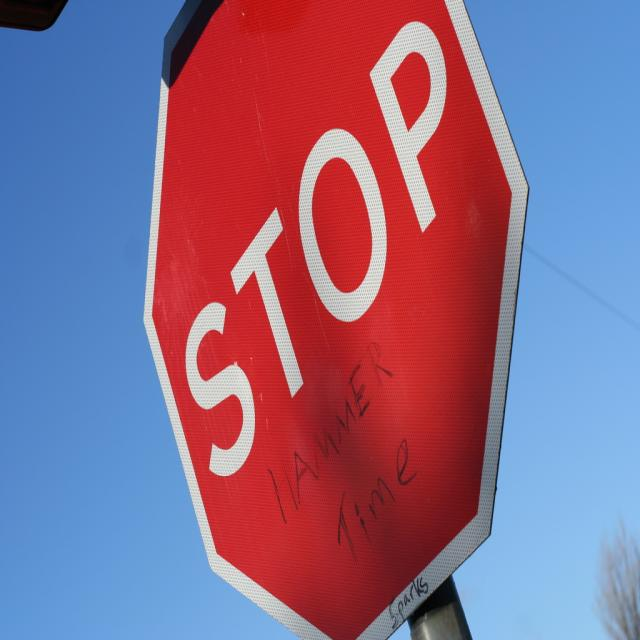Stop-sign: (145, 0, 530, 639)
